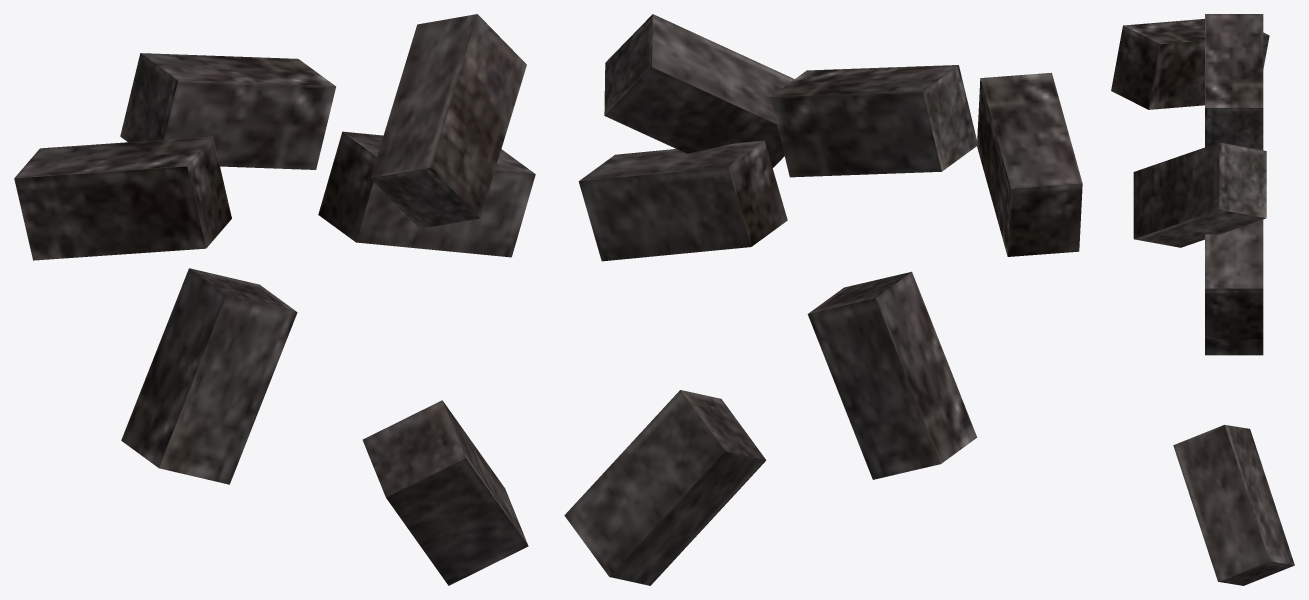
3 views of the same model, side by side, from view 1: azimuth 30°, elevation 25°; view 2: azimuth 150°, elevation 25°; view 3: azimuth 270°, elevation 25° (orthographic). The views are drawn at different scales.
Visible parts, largest first — view 1: model_Object22; view 2: model_Object22; view 3: model_Object22.
Part boxes in pixels (x1,y1,x2,y2): model_Object22: [14, 14, 535, 585]; model_Object22: [564, 14, 1082, 585]; model_Object22: [1111, 14, 1294, 585].
Bounding box in the file's own units: 0.927 × 1.02 × 0.3708.
Materials: 1 (1 with a texture image).
